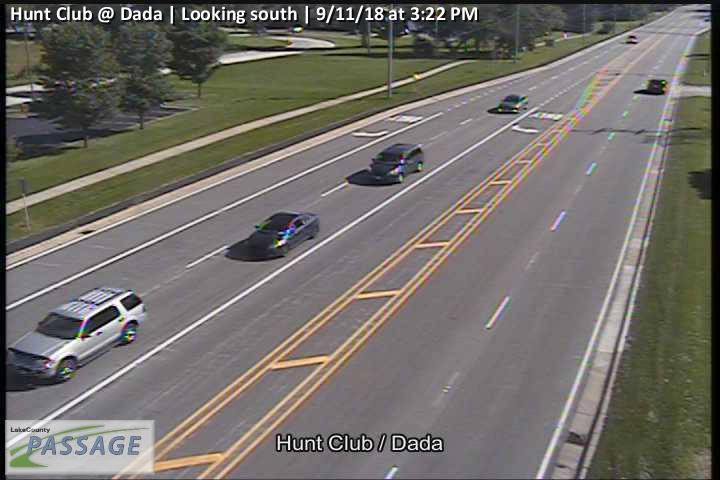SUV: (8, 287, 146, 385), (370, 143, 425, 182)
Sedan: (247, 210, 322, 257), (498, 93, 529, 115), (647, 77, 667, 93), (625, 33, 640, 44)
